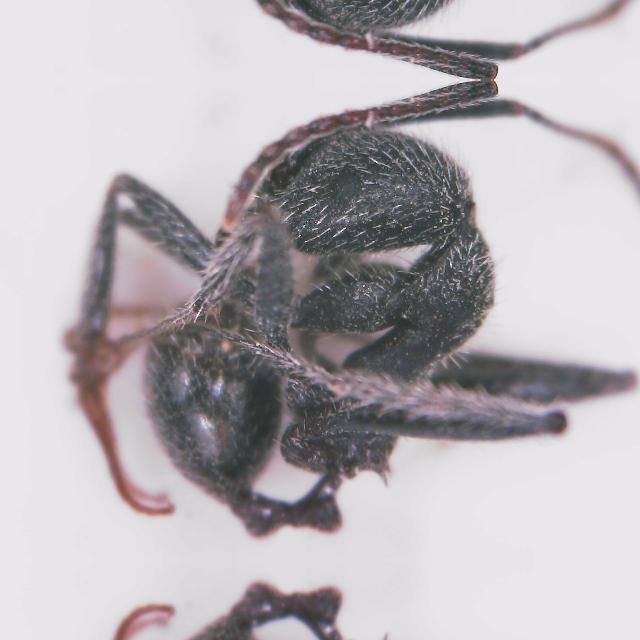Apheanogaster: (27, 89, 596, 559)
